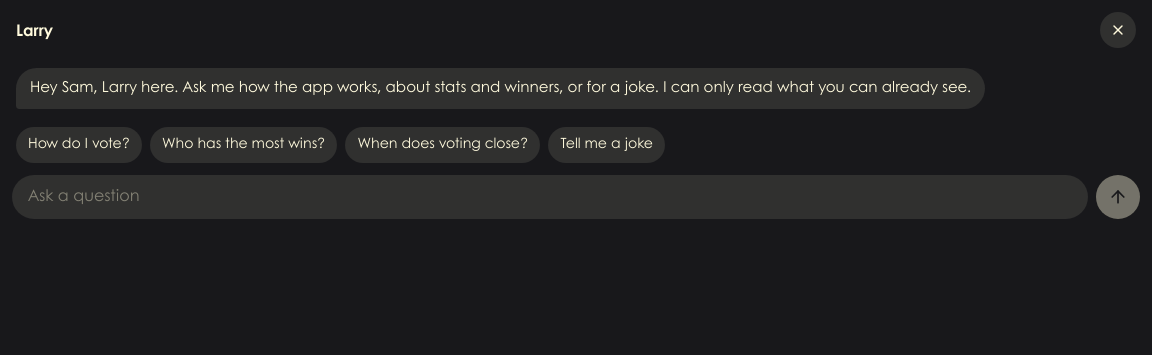
Scenario: Ask Larry panel › the daily limit disables the input and shows the copy
The image size is (1152, 355).
Click the button "Tell me a joke": [607, 145] box [548,127,665,163]
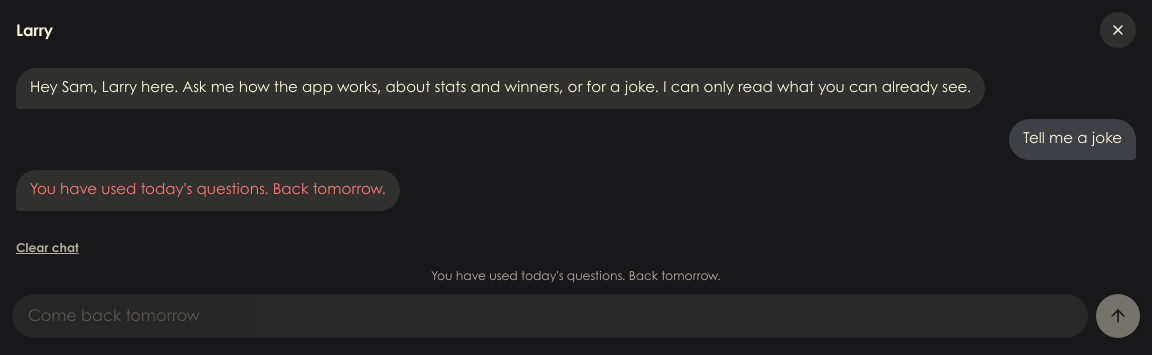
Check: the field named "Ask a question" is disabled, box [12,294,1088,338]
